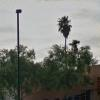Tree: (43, 10, 100, 84)
